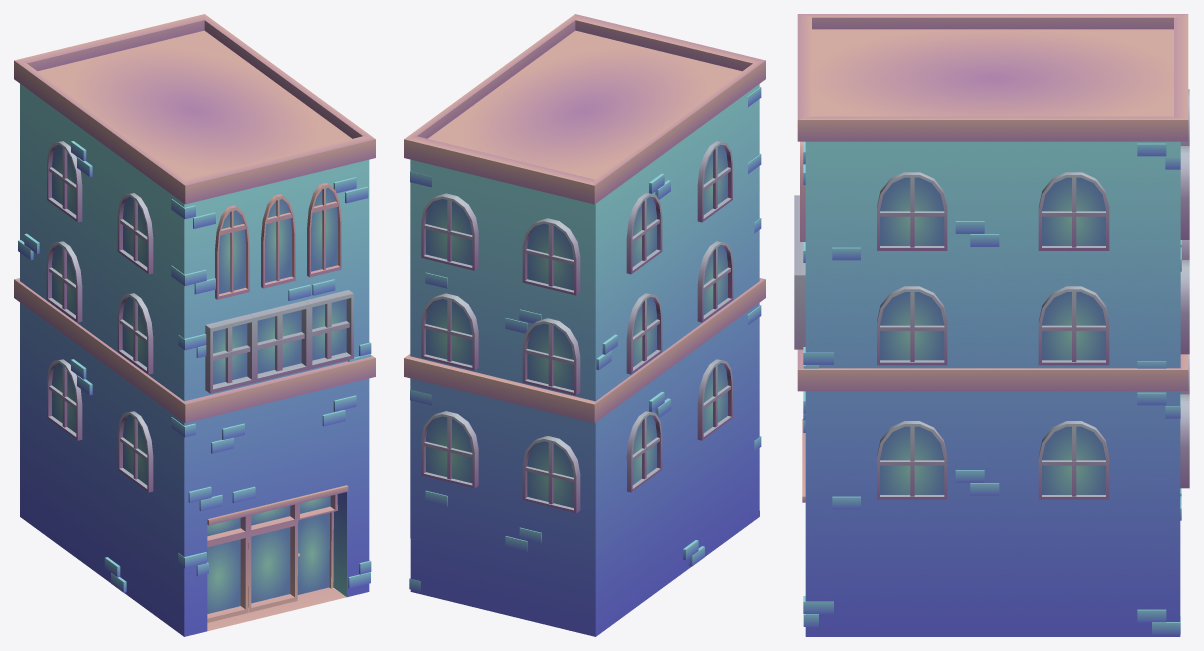
The picture shows the model from 3 angles, left to right: view 1: azimuth 30°, elevation 25°; view 2: azimuth 150°, elevation 25°; view 3: azimuth 270°, elevation 25°; orthographic projection. The views are drawn at different scales.
Visible parts, largest first — view 1: SM_4F_04; view 2: SM_4F_04; view 3: SM_4F_04.
Part boxes in pixels (x1=…): SM_4F_04: x1=14, y1=14, x2=375, y2=636; SM_4F_04: x1=404, y1=14, x2=765, y2=636; SM_4F_04: x1=794, y1=14, x2=1189, y2=636.
Size of the model in its own units: 6.01 by 9.26 by 13.41.
